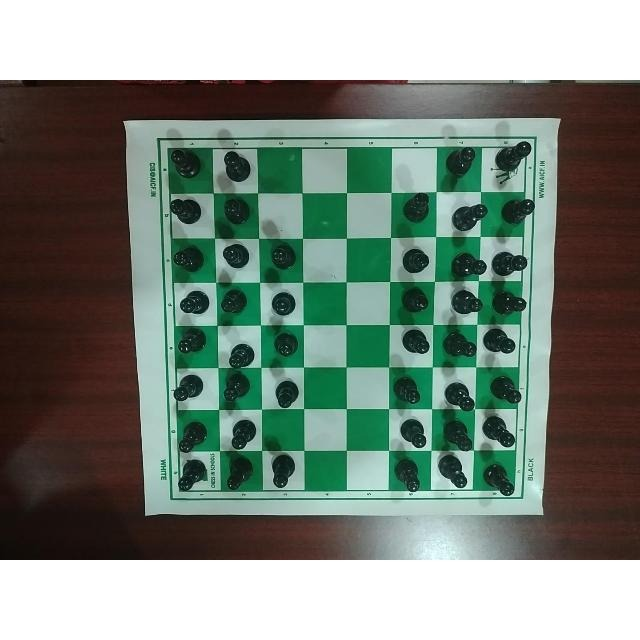black-pawn: (214, 142, 257, 185), (491, 240, 530, 281), (497, 136, 535, 178), (449, 242, 487, 282), (440, 143, 481, 179), (440, 325, 478, 363), (163, 193, 204, 227), (167, 144, 205, 180), (491, 286, 533, 318), (483, 323, 520, 359), (217, 195, 253, 231), (440, 376, 476, 412), (481, 461, 517, 497), (484, 375, 522, 409), (393, 369, 425, 409), (267, 453, 301, 490), (501, 195, 537, 229), (172, 240, 206, 276), (400, 242, 436, 276), (481, 415, 517, 449), (223, 454, 256, 491), (451, 200, 490, 231), (435, 456, 471, 489), (267, 284, 302, 317), (397, 192, 433, 224), (217, 239, 253, 271), (263, 239, 299, 271), (224, 337, 260, 369), (270, 376, 302, 412), (392, 457, 424, 493), (177, 422, 211, 455), (446, 286, 486, 314), (228, 416, 260, 451), (438, 422, 474, 453), (399, 324, 431, 358), (397, 414, 428, 449), (399, 284, 431, 317), (221, 286, 253, 318), (171, 373, 203, 405), (176, 460, 208, 492), (221, 372, 254, 403), (178, 289, 214, 317), (270, 329, 302, 359), (176, 328, 208, 357)
